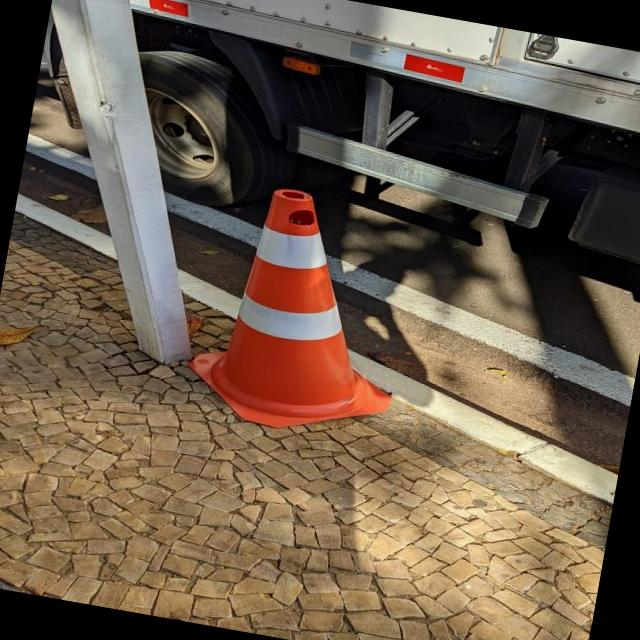Cone: (174, 171, 431, 451)
